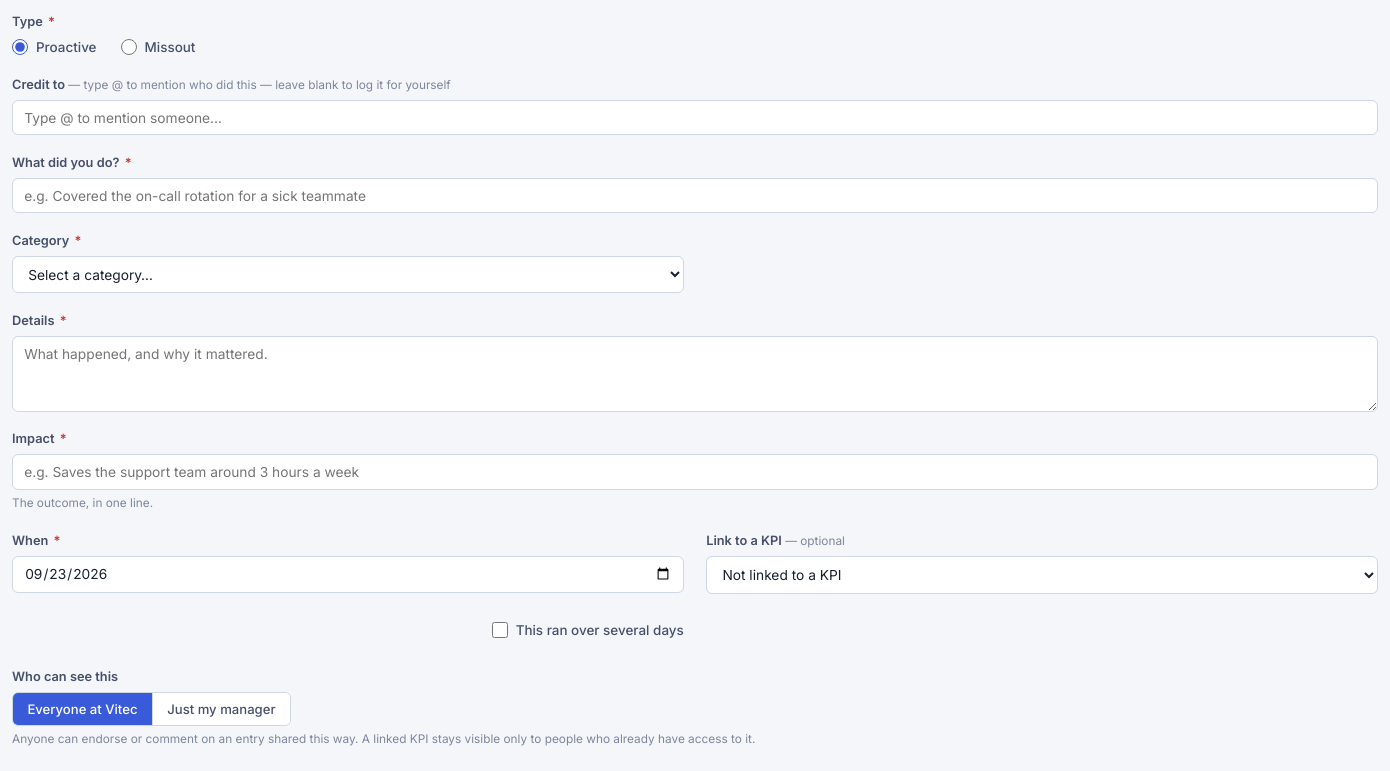
Scenario: ProactiveWorkForm — Other category rule › does not show the free-text field until Category = Other
This screenshot has width=1390, height=771.
Expected: the text "what kind of work was it" is not shown
Step 1. Select "Other" in the dropdown below "Category" → (348, 275), box [12,256,684,293]
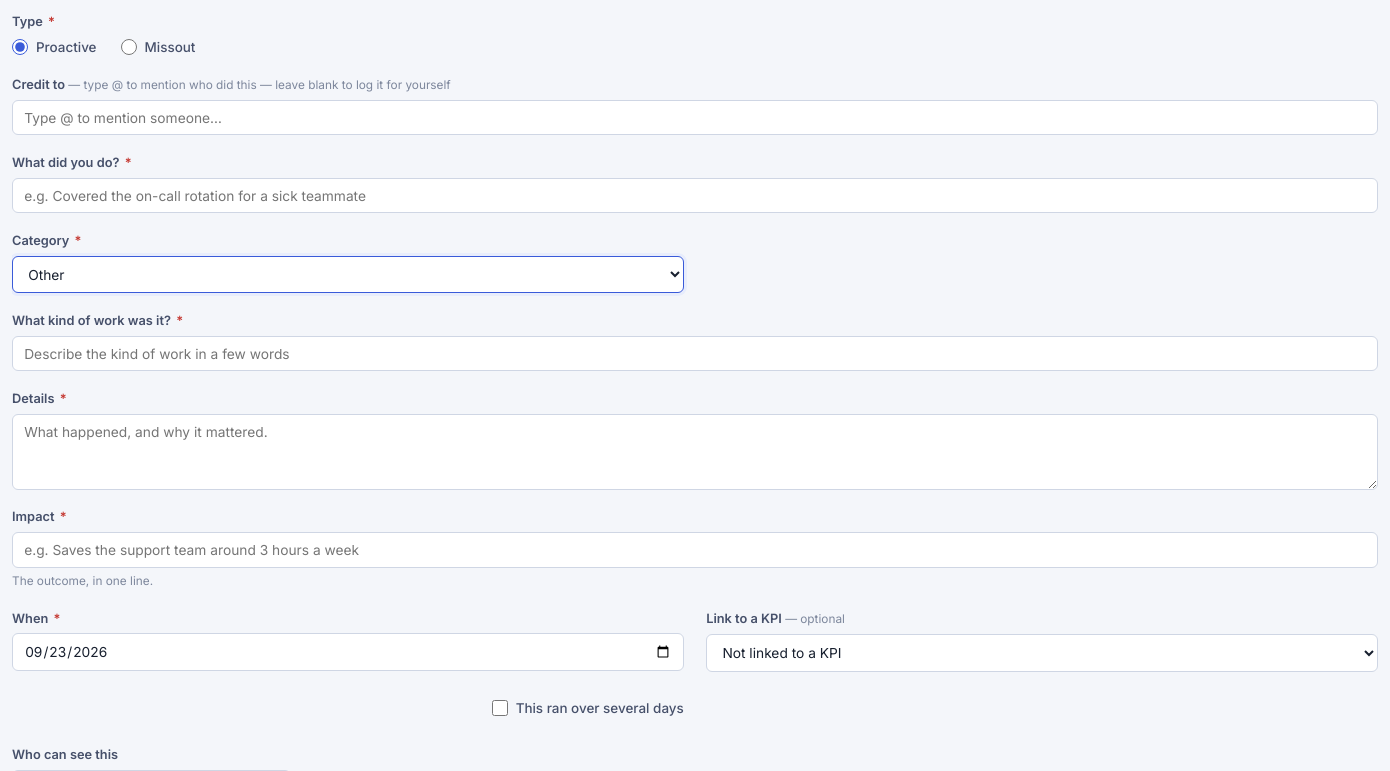
Expected: the field with placeholder "Describe the kind of work in a few words" is shown, [12,336,1378,371]
